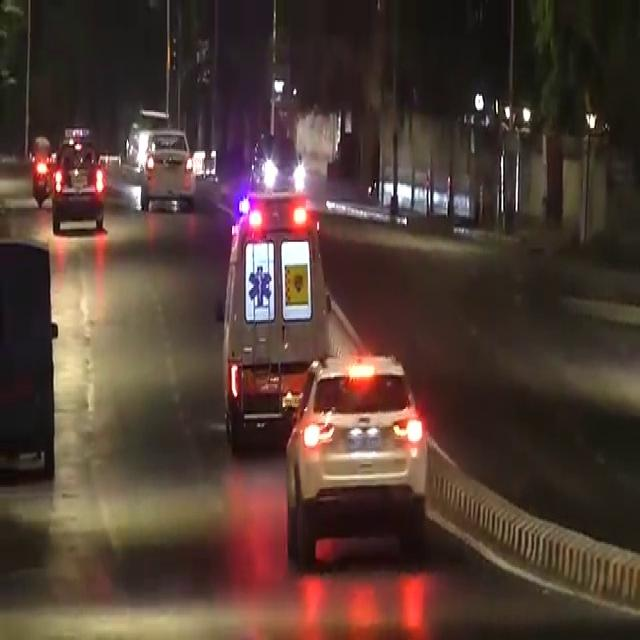ambulance: (216, 147, 334, 420)
